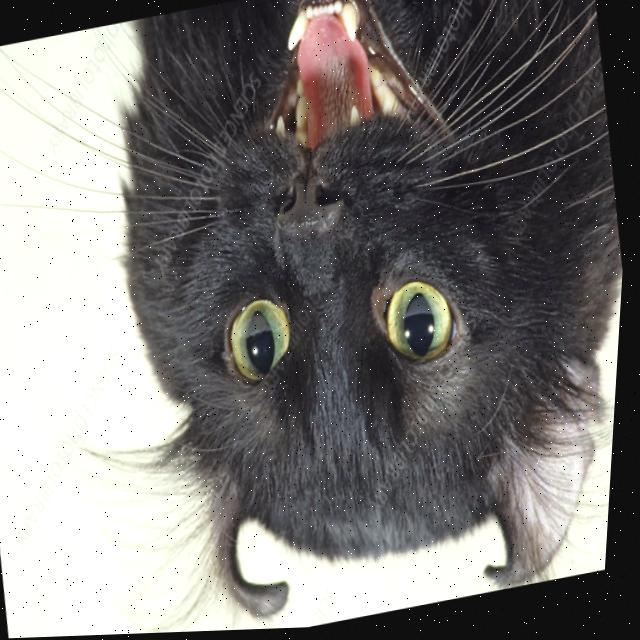American Curl: (68, 0, 640, 637)
